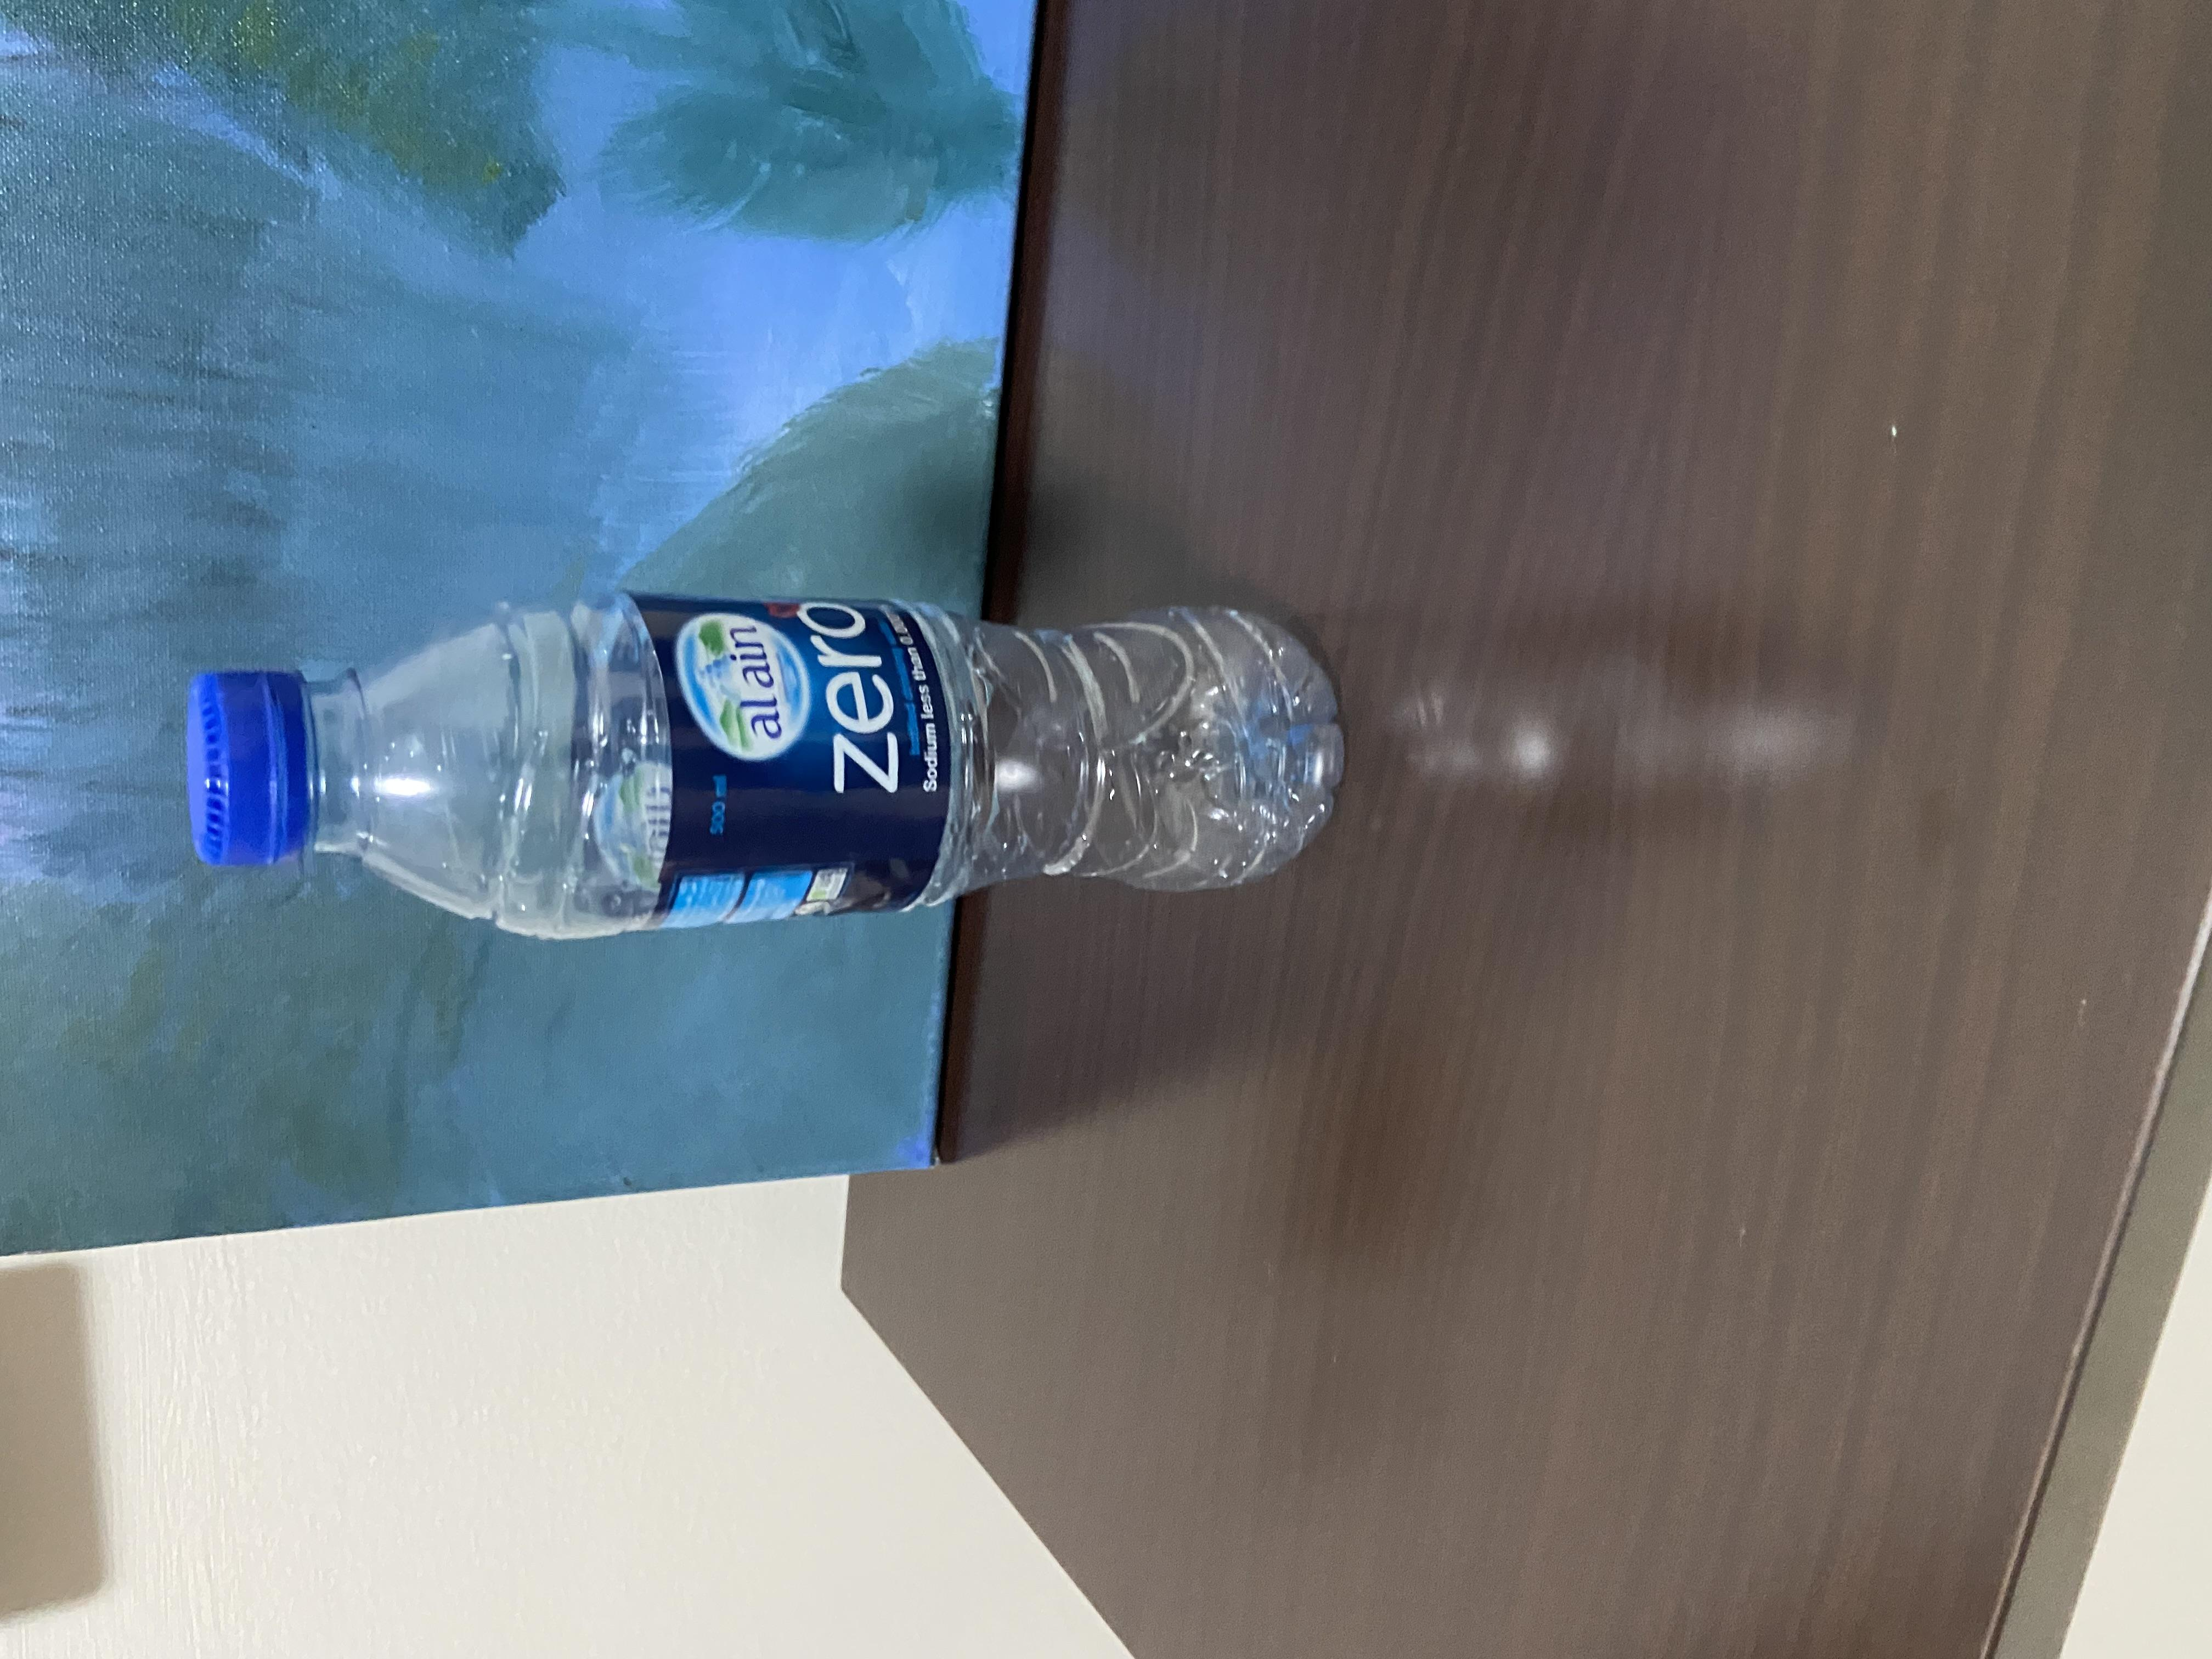bottle: (961, 136, 1454, 1012)
